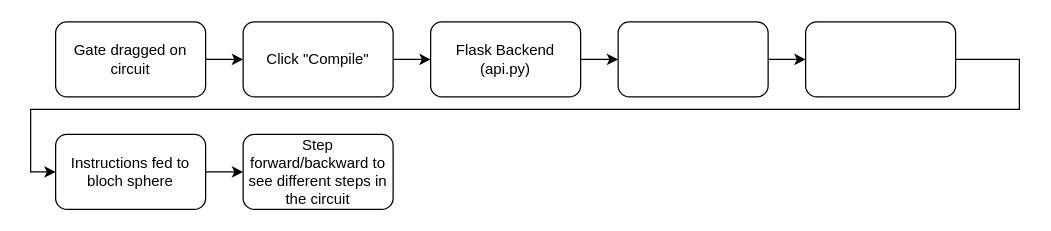
This 1051x231 diagram has some shape labels left out. Each missing label, with the centre of its shape:
"Instruction set generation" goes at (880,59).
"Qiskit Circuit Builder (processor.py)" goes at (692,59).
